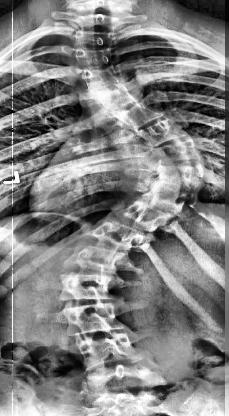Vertebrae: (83, 358, 168, 398), (70, 332, 143, 370), (61, 301, 125, 339), (134, 178, 200, 214), (84, 218, 150, 252), (108, 199, 172, 233), (64, 243, 134, 273), (56, 270, 120, 302), (110, 102, 168, 134), (145, 138, 201, 171), (139, 115, 191, 150), (89, 83, 137, 114), (150, 164, 206, 190), (80, 66, 124, 92), (72, 46, 116, 66), (73, 30, 119, 48)
